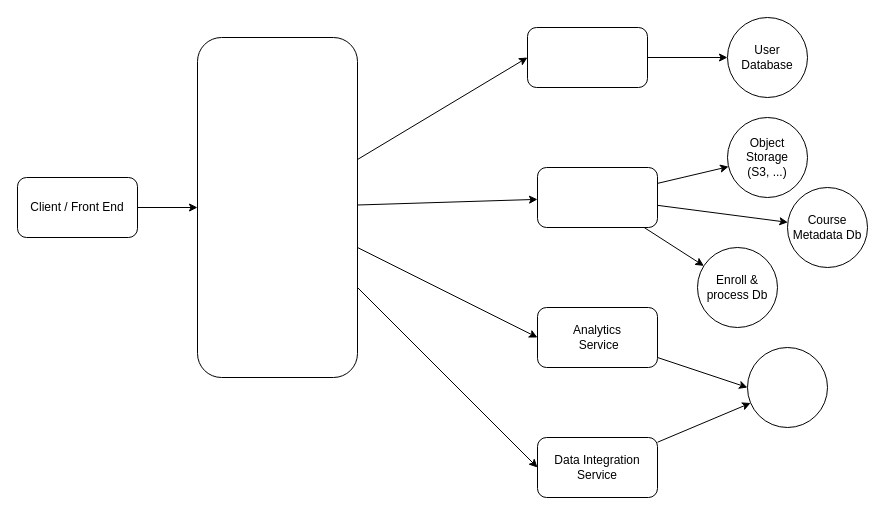
Image size: 885x515. Some labels were removed from this diagram. Here are the shapes that lost their labels. From the top down, the centre of each, then its label:
[587,57]: User Service
[277,207]: Api Gateway & Load Balancer - Routing - Authentication - Rate Limiting
[597,197]: Course Service
[787,387]: Metrics Db
